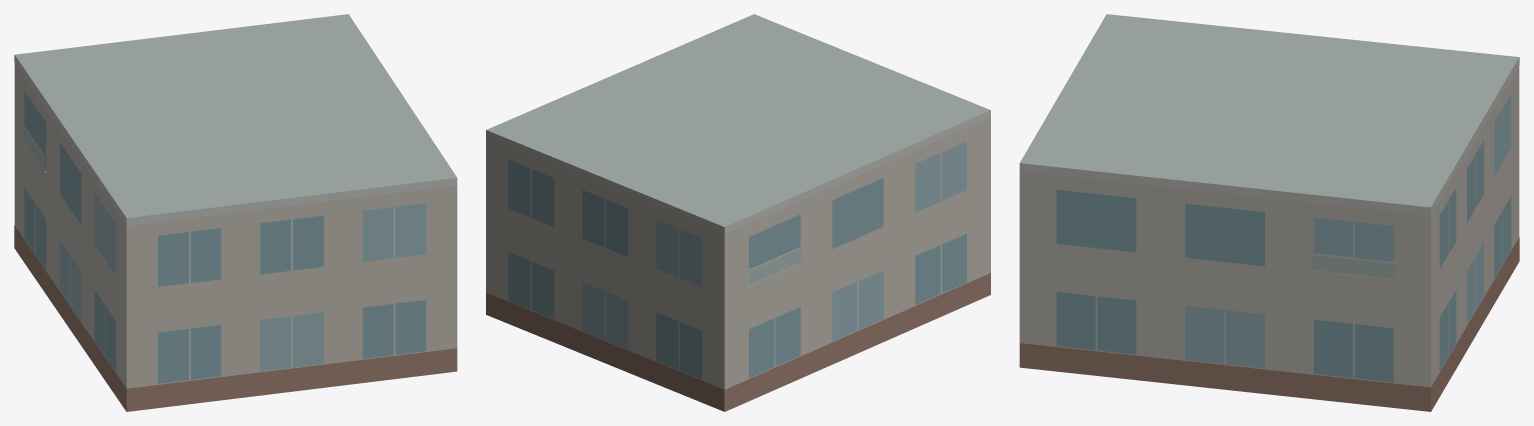
File: survey-upis-32996514.glb
The picture shows the model from 3 angles, left to right: view 1: azimuth 30°, elevation 25°; view 2: azimuth 150°, elevation 25°; view 3: azimuth 270°, elevation 25°; orthographic projection. The views are drawn at different scales.
Parts seen in each view (by area): view 1: survey-upis-32996514.tmp; view 2: survey-upis-32996514.tmp; view 3: survey-upis-32996514.tmp.
Part boxes in pixels (<box>): survey-upis-32996514.tmp: <box>14,14,457,411</box>; survey-upis-32996514.tmp: <box>486,14,990,411</box>; survey-upis-32996514.tmp: <box>1019,14,1519,411</box>.
Bounding box in the file's own units: 12.39 × 6.1 × 13.52.
